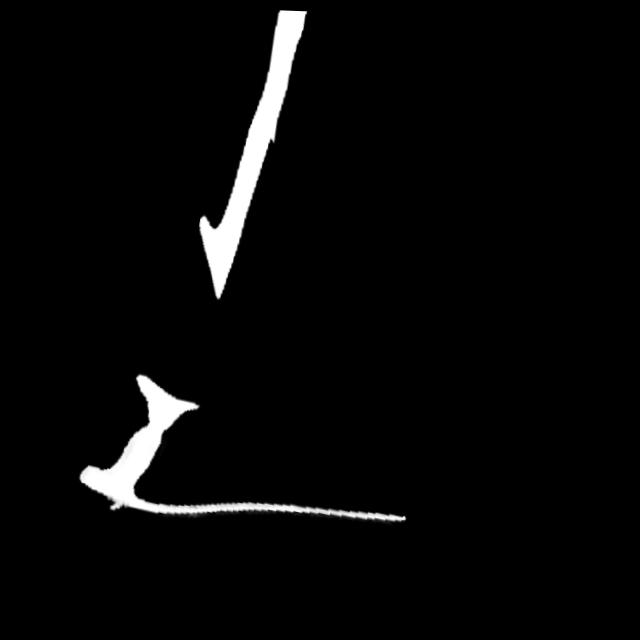sup_pli: (99, 487, 124, 517)
